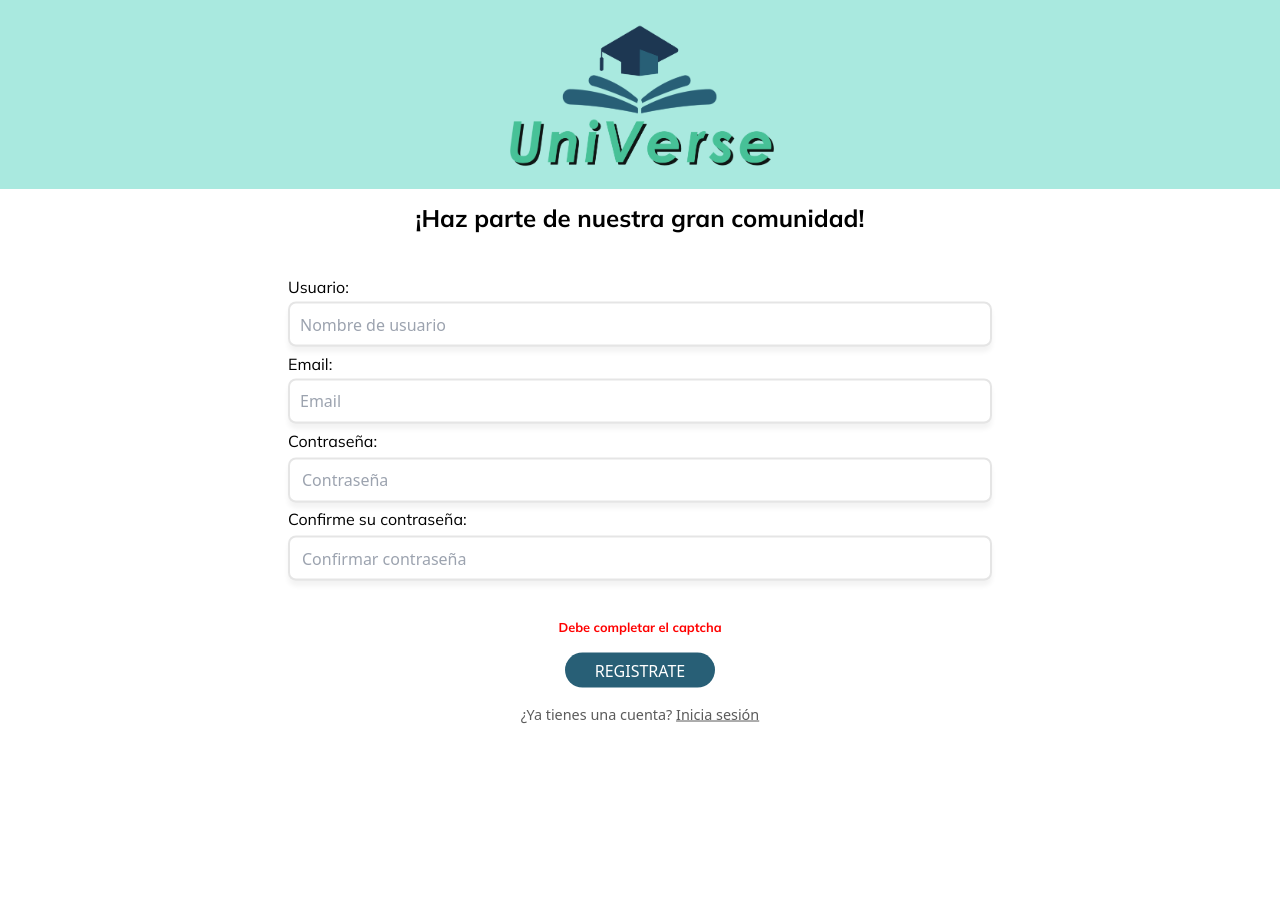
Test: Prueba de restricciones en los inputs › Muestra error cuando la contraseña es demasiado corta
In the field with placeholder "Nombre de usuario": {"x": 640, "y": 324} [288, 302, 992, 346], type "usuario_valido"
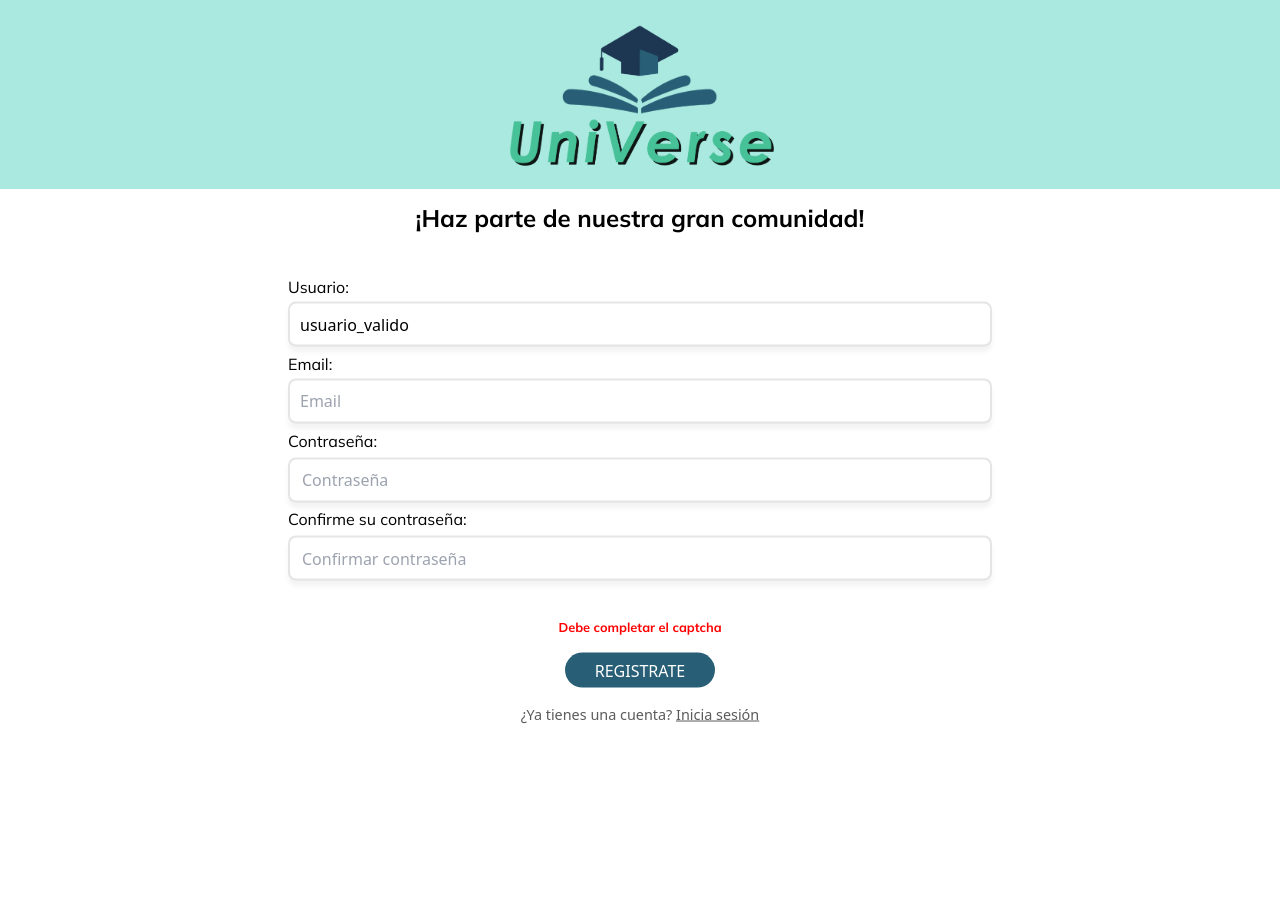
In the field with placeholder "Email": {"x": 640, "y": 401} [288, 378, 992, 423], type "correo@valido.com"
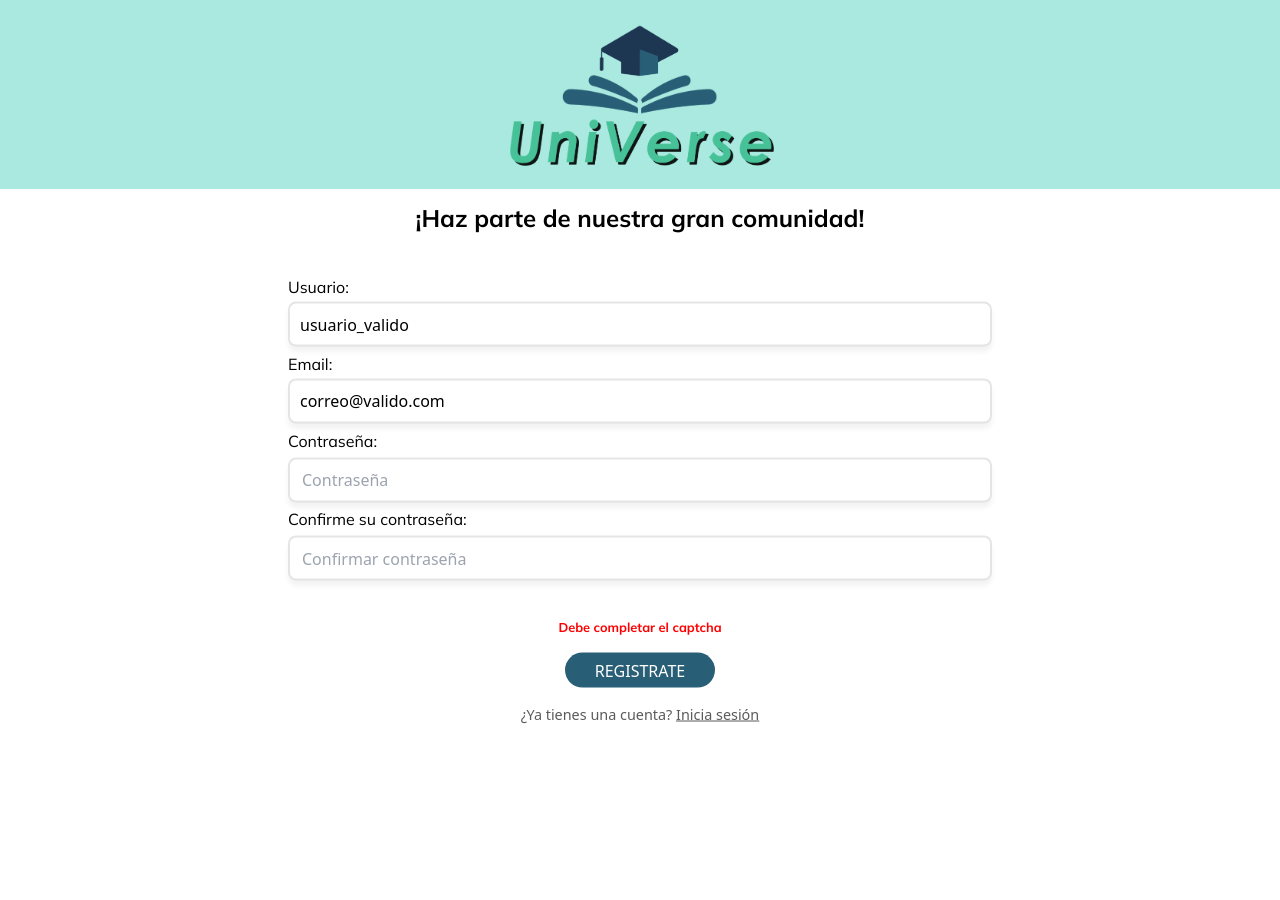
In the password field with placeholder "Contraseña": {"x": 640, "y": 480} [288, 457, 992, 502], type "short"
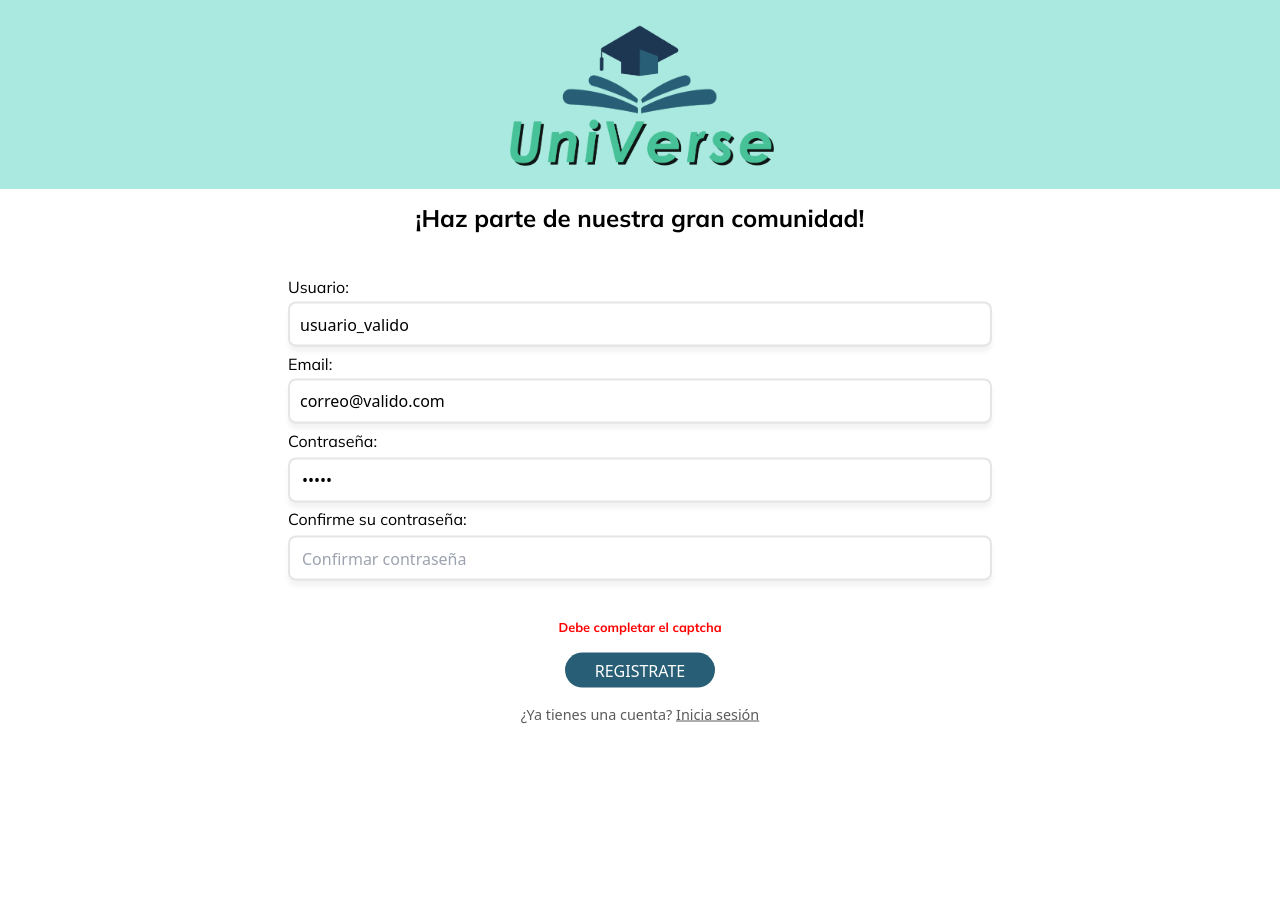
In the password field with placeholder "Confirmar contraseña": {"x": 640, "y": 558} [288, 536, 992, 581], type "short"
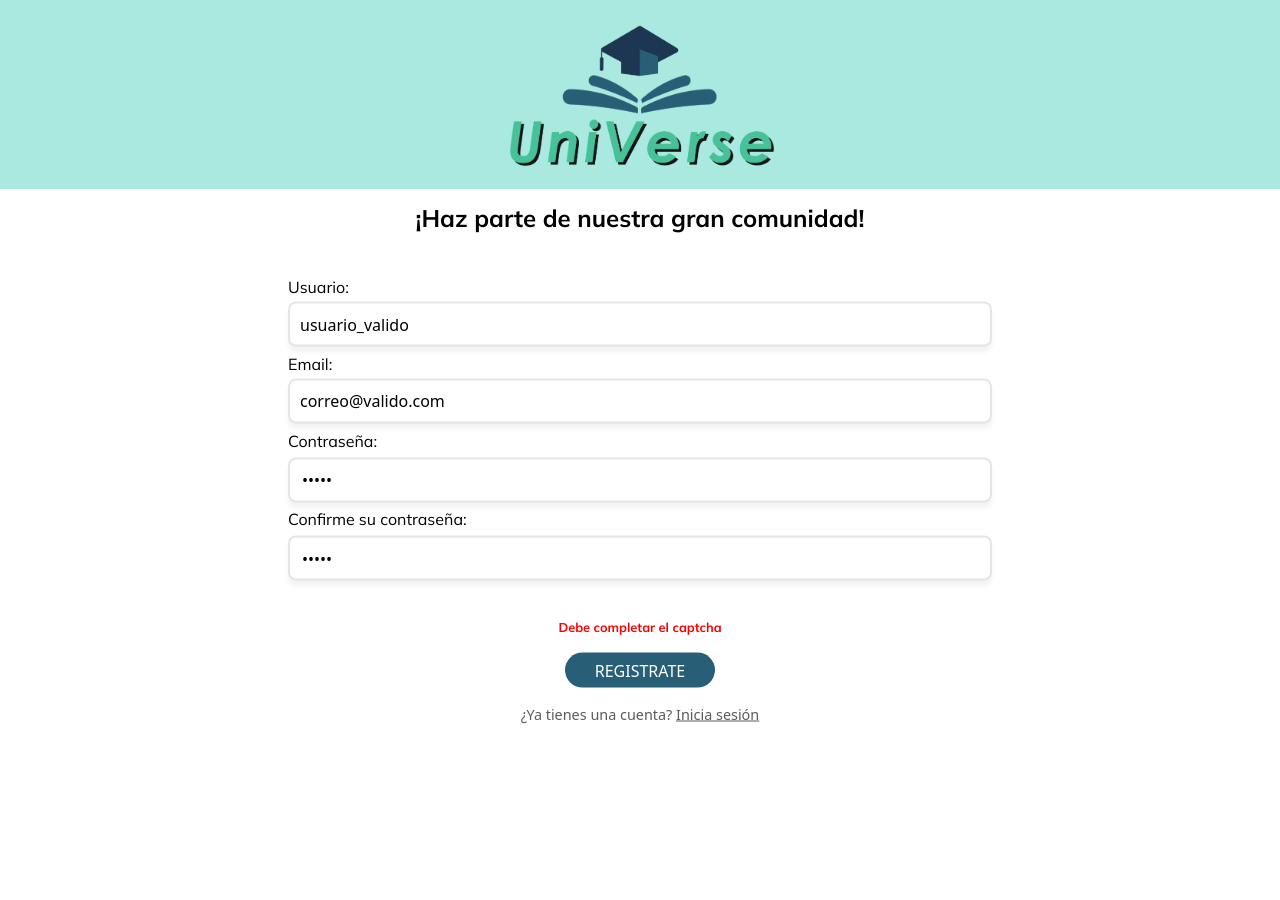
Click the button "REGISTRATE": {"x": 640, "y": 670} [565, 653, 715, 688]
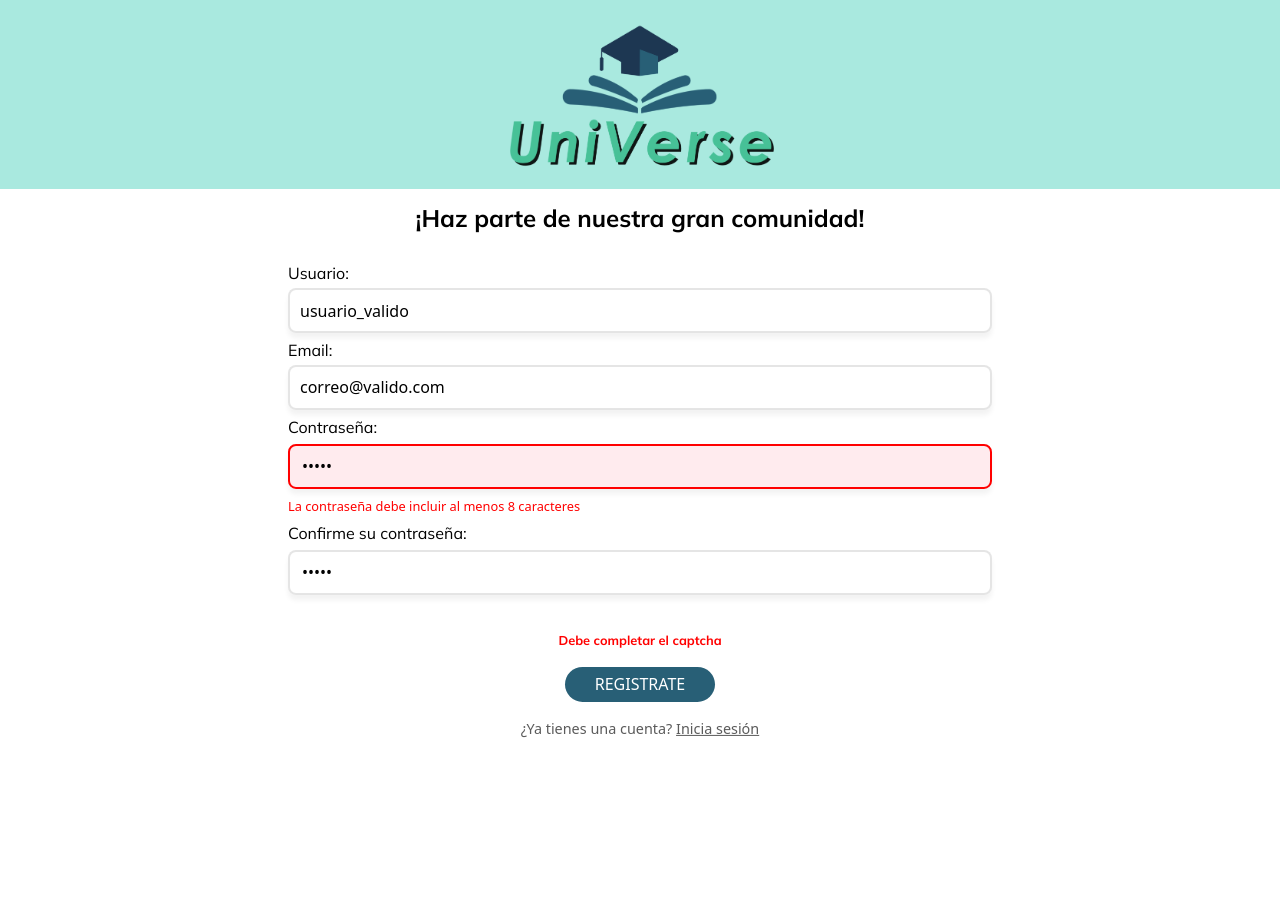
Check: the text "La contraseña debe incluir al menos 8 caracteres" is shown, box [288, 496, 580, 514]
